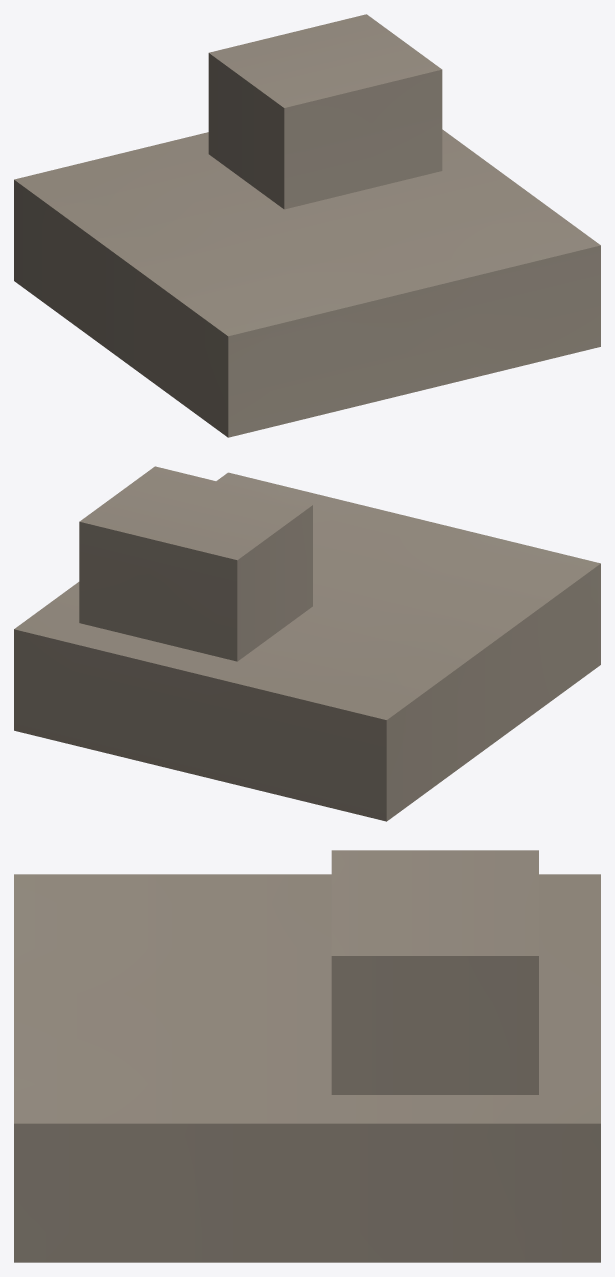
File: Bld_Top_Euipment_A_col.fbx
3 views of the same model, one above another, from view 1: azimuth 30°, elevation 25°; view 2: azimuth 150°, elevation 25°; view 3: azimuth 270°, elevation 25° (orthographic). The views are drawn at different scales.
Visible parts, largest first — view 1: Bld_Top_Euipment_A_col; view 2: Bld_Top_Euipment_A_col; view 3: Bld_Top_Euipment_A_col.
Part boxes in pixels (<box>): Bld_Top_Euipment_A_col: <box>14,14,600,437</box>; Bld_Top_Euipment_A_col: <box>14,466,600,821</box>; Bld_Top_Euipment_A_col: <box>14,850,600,1262</box>.
Bounding box in the file's own units: 1154 × 600 × 1149.
